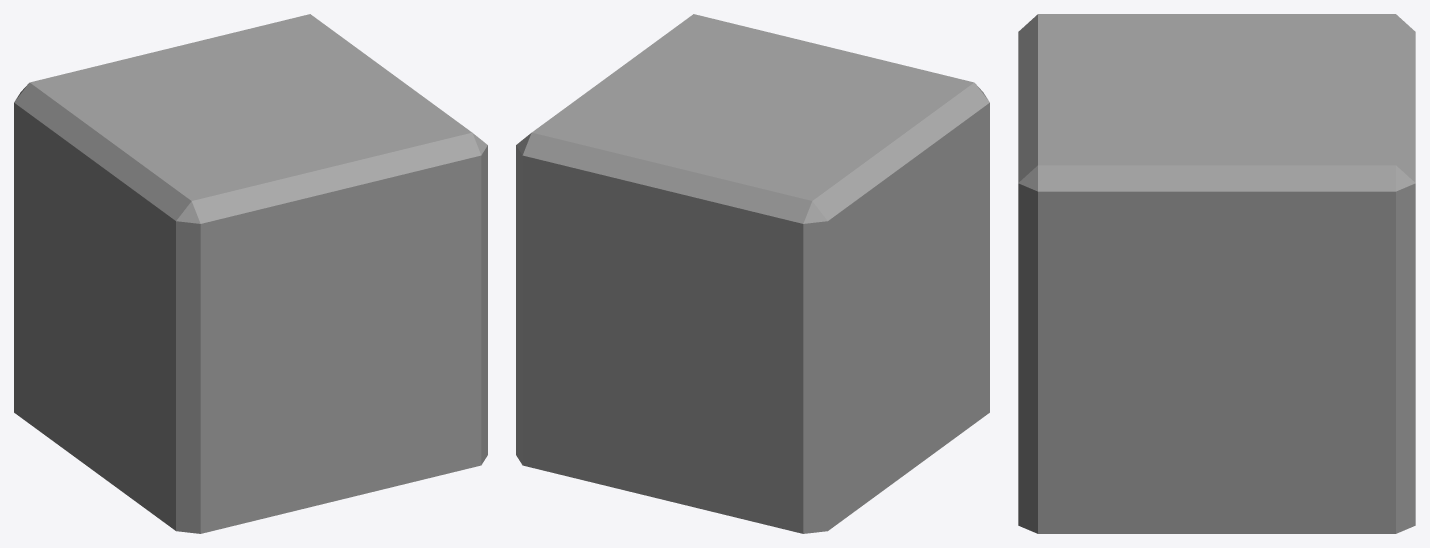
File: Character_Barrier1_Skin0.fbx
The picture shows the model from 3 angles, left to right: view 1: azimuth 30°, elevation 25°; view 2: azimuth 150°, elevation 25°; view 3: azimuth 270°, elevation 25°; orthographic projection. The views are drawn at different scales.
Parts seen in each view (by area): view 1: Character_Barrier1_Skin0_; view 2: Character_Barrier1_Skin0_; view 3: Character_Barrier1_Skin0_.
Boxes of the visible parts, x1=… form: Character_Barrier1_Skin0_: x1=14, y1=14, x2=487, y2=533; Character_Barrier1_Skin0_: x1=516, y1=14, x2=989, y2=533; Character_Barrier1_Skin0_: x1=1018, y1=14, x2=1415, y2=533.
Size of the model in its own units: 100 by 100 by 100.
